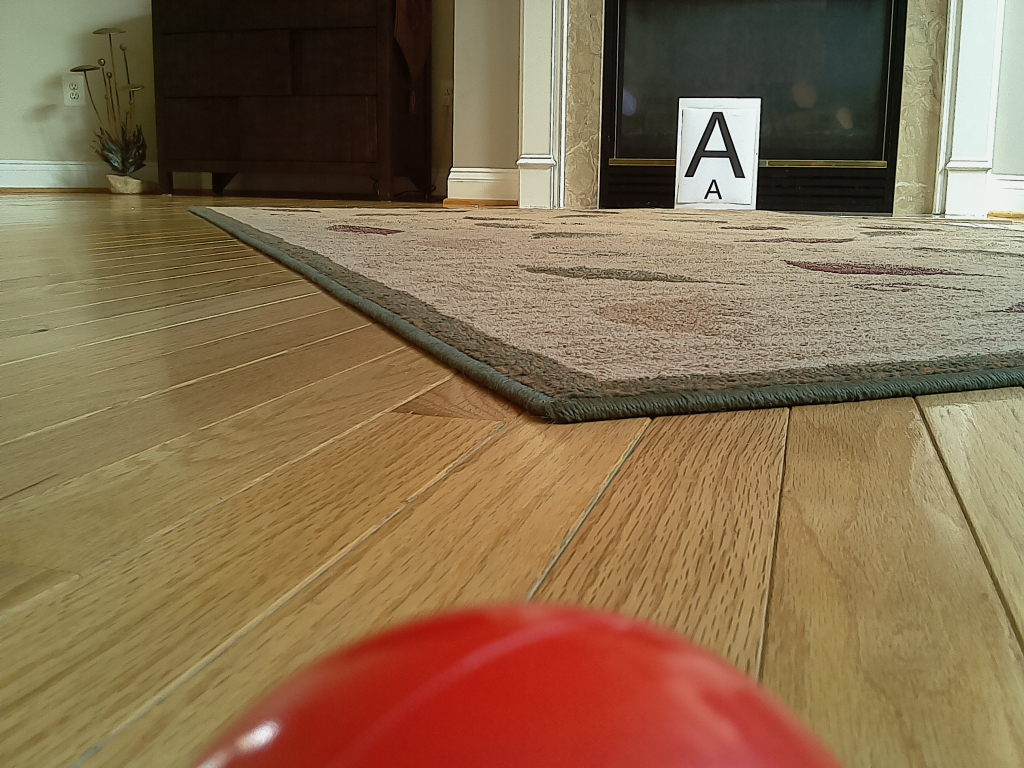letter: (685, 110, 746, 179)
